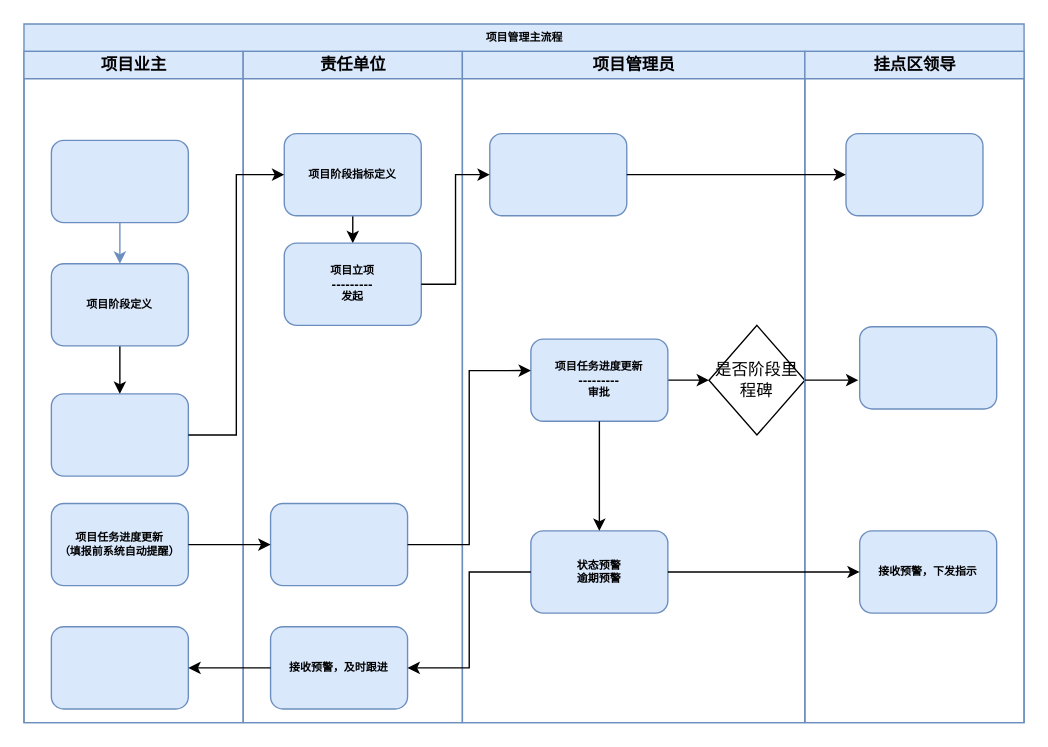
Image size: 1048x747. Some labels were removed from this diagram. Each missing label, with the centre of its shape:
审批项目里程碑: point (927, 367)
接收预警，及时纠偏: point (119, 667)
项目任务进度更新 --------- 复核: point (338, 544)
项目基础信息定义 （名称、类型等）: point (119, 181)
项目子任务定义: point (119, 434)
项目立项 --------- 审批: point (914, 174)
项目立项 --------- 审核: point (557, 174)
